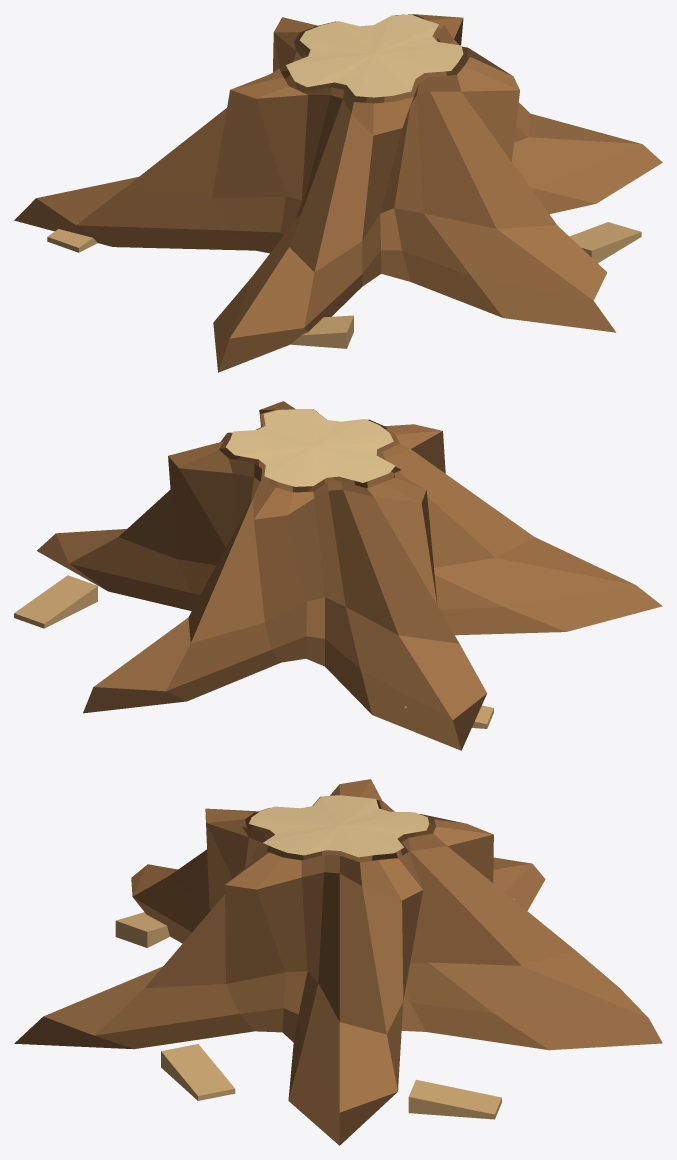
Rendered from tree-stump.glb.
3 renders of one model, top to bottom at view 1: azimuth 30°, elevation 25°; view 2: azimuth 150°, elevation 25°; view 3: azimuth 270°, elevation 25°, orthographic. The views are drawn at different scales.
Parts seen in each view (by area): view 1: stump, stump_cut, chip_0, chip_1, chip_3; view 2: stump, stump_cut, chip_2; view 3: stump, stump_cut, chip_2, chip_0, chip_1.
Part boxes in pixels (left/top/right/bottom): stump: left=14, top=14, right=662, bottom=372; stump_cut: left=286, top=14, right=463, bottom=97; chip_0: left=569, top=222, right=641, bottom=262; chip_1: left=290, top=315, right=353, bottom=348; chip_3: left=47, top=229, right=97, bottom=252; stump: left=37, top=401, right=662, bottom=750; stump_cut: left=226, top=409, right=395, bottom=486; chip_2: left=14, top=575, right=97, bottom=628; stump: left=14, top=779, right=662, bottom=1145; stump_cut: left=249, top=795, right=429, bottom=857; chip_2: left=408, top=1079, right=501, bottom=1119; chip_0: left=161, top=1044, right=235, bottom=1100; chip_1: left=115, top=912, right=169, bottom=947.
Size of the model in its own units: 2.17 by 0.6941 by 2.22.
